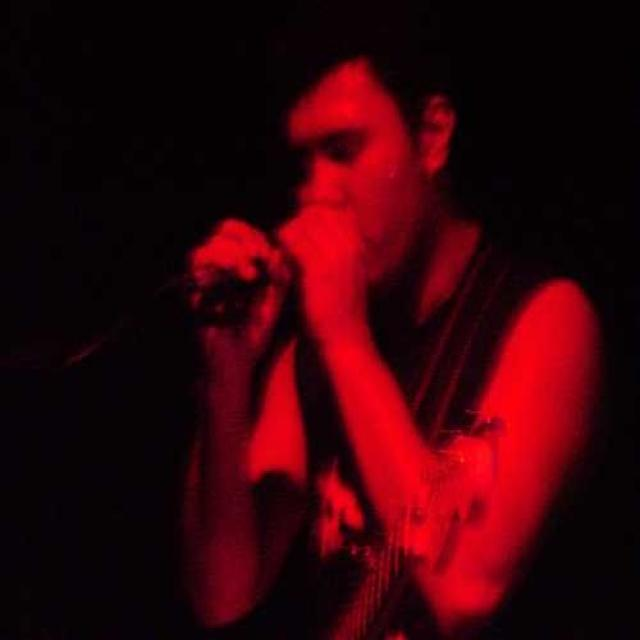microphone: (181, 203, 368, 341)
